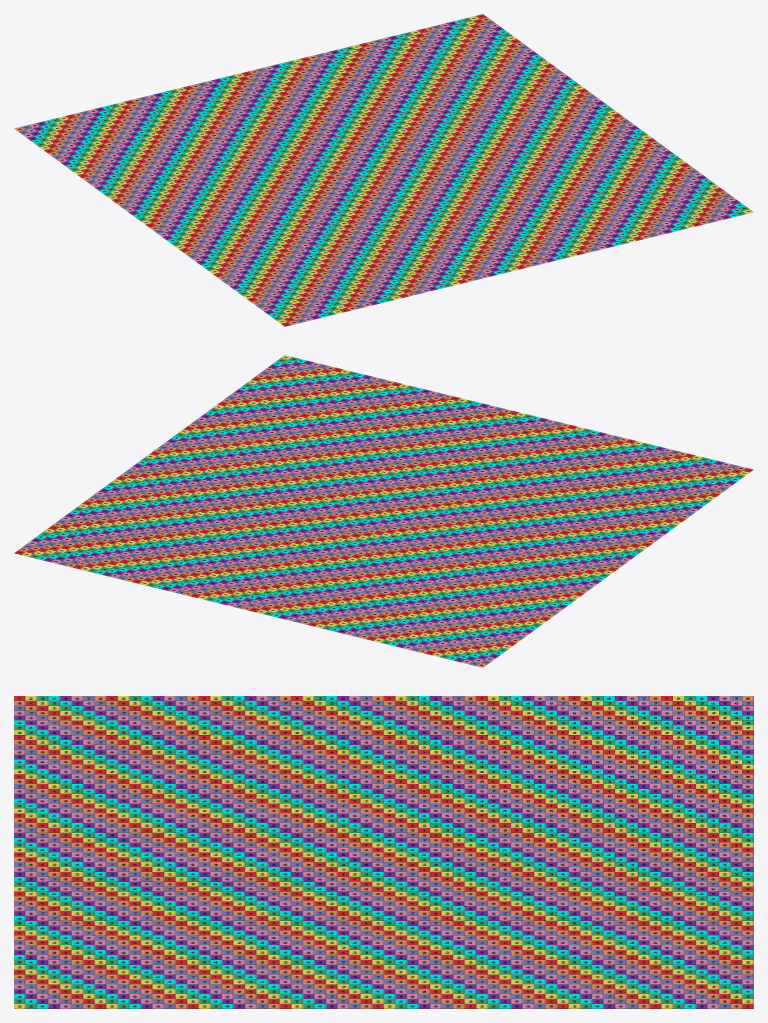
The model's file is watertess_bottom_leftcorner.fbx.
3 views of the same model, one above another, from view 1: azimuth 30°, elevation 25°; view 2: azimuth 150°, elevation 25°; view 3: azimuth 270°, elevation 25° (orthographic). The views are drawn at different scales.
Visible parts, largest first — view 1: bottom_leftcorner_f; view 2: bottom_leftcorner_f; view 3: bottom_leftcorner_f.
Part boxes in pixels (x1,y1,x2,y2): bottom_leftcorner_f: (14, 14, 753, 326); bottom_leftcorner_f: (14, 355, 753, 667); bottom_leftcorner_f: (14, 696, 753, 1008).
Size of the model in its own units: 512 by 8.34e-05 by 512.
